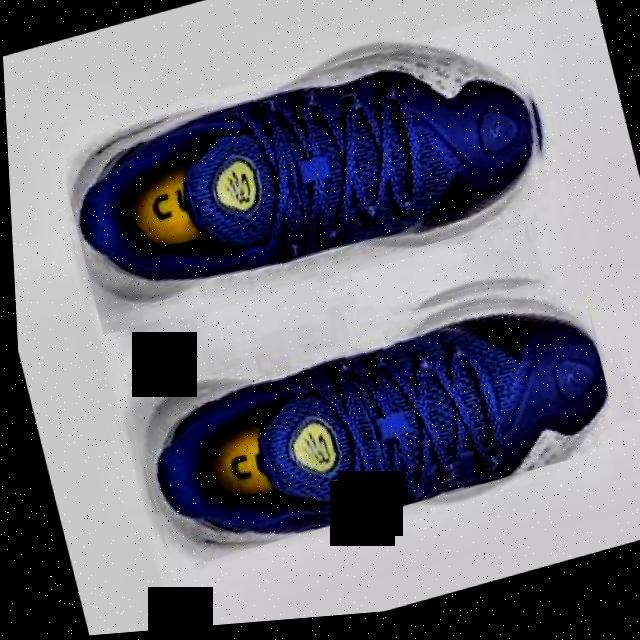shoe: (47, 4, 567, 339), (110, 257, 620, 577)
